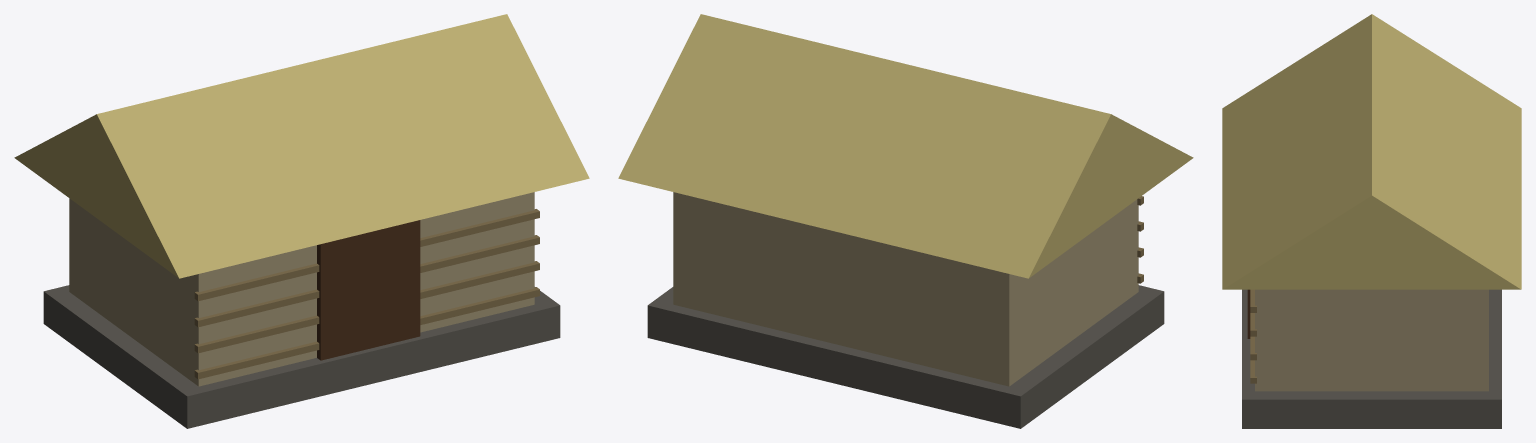
Rendered from salt_warehouse.glb.
The picture shows the model from 3 angles, left to right: view 1: azimuth 30°, elevation 25°; view 2: azimuth 150°, elevation 25°; view 3: azimuth 270°, elevation 25°; orthographic projection. The views are drawn at different scales.
Parts seen in each view (by area): view 1: salt_warehouse; view 2: salt_warehouse; view 3: salt_warehouse.
Part boxes in pixels (x1,y1,x2,y2): salt_warehouse: [14, 14, 589, 428]; salt_warehouse: [618, 14, 1193, 428]; salt_warehouse: [1222, 14, 1521, 428].
Size of the model in its own units: 6.6 by 4.1 by 4.6.
